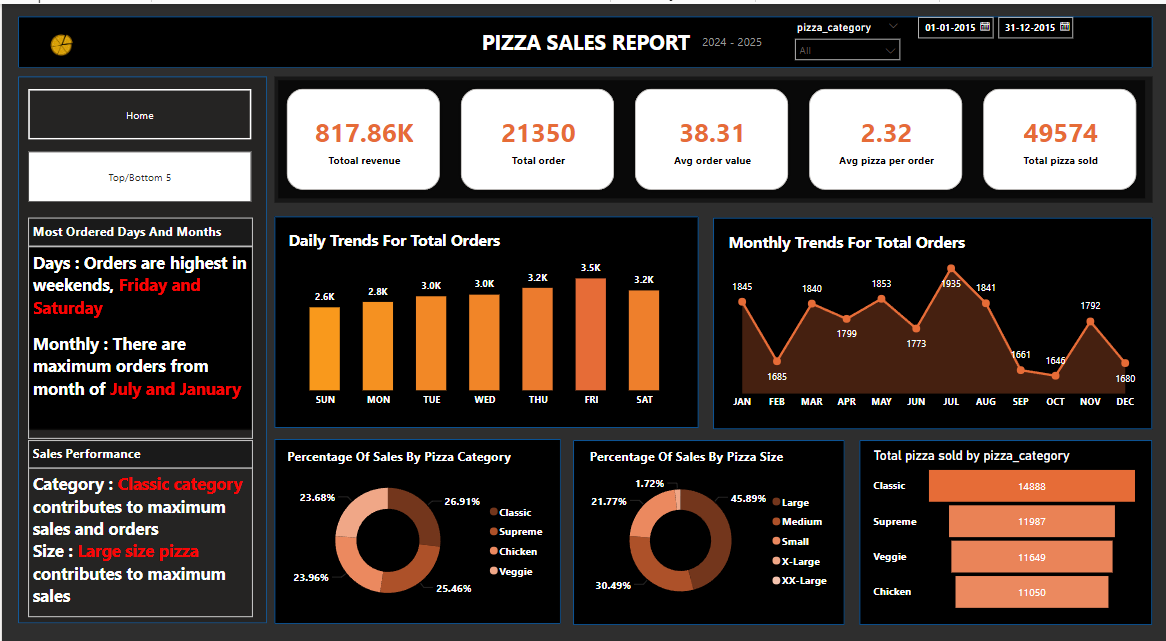

Layout of this report page (visuals, bound fields, positions):
{"tool":"powerbi","page":{"name":"Home","canvas":[1500,820],"ordinal":0},"visuals":[{"type":"cardVisual","fields":{"Data":["pizza_sales.Totoal revenue","pizza_sales.Total order","pizza_sales.Avg order value","pizza_sales.Avg pizza per order","pizza_sales.Total pizza sold"]},"box":[350.4,93.4,1129.4,162.1],"z":0},{"type":"shape","title":"PIZZA SALES","box":[20.6,16.5,1459.2,66],"z":1000},{"type":"textbox","box":[572,25.3,357.3,46.7],"z":2000},{"type":"textbox","box":[895.8,33,97.6,33],"z":3000},{"type":"shape","box":[350.4,273.4,545.5,272.1],"z":4000},{"type":"columnChart","title":"Daily Trends For Total Orders","fields":{"Category":["pizza_sales.order day"],"Y":["pizza_sales.Total order"]},"box":[364.1,289.9,516.6,237.7],"z":5000},{"type":"shape","box":[915.1,274.8,564.7,272.1],"z":6000},{"type":"areaChart","title":"Monthly Trends For Total Orders","fields":{"Category":["pizza_sales.order Month"],"Y":["pizza_sales.Total order"]},"box":[928.8,292.7,538.6,237.7],"z":7000},{"type":"shape","box":[350.4,559.2,368.2,237.7],"z":8000},{"type":"shape","box":[735.1,562,349,237.7],"z":9000},{"type":"shape","box":[1103.3,560.6,376.5,237.7],"z":10000},{"type":"donutChart","title":"Percentage Of Sales By Pizza Category","fields":{"Category":["pizza_sales.pizza_category"],"Y":["pizza_sales.Totoal revenue"]},"box":[361.4,571.6,347.6,217.1],"z":11000},{"type":"donutChart","title":"Percentage Of Sales By Pizza Size","fields":{"Y":["pizza_sales.Totoal revenue"],"Category":["pizza_sales.pizza_size"]},"box":[750.2,571.6,324.3,217.1],"z":12000},{"type":"funnel","fields":{"Category":["pizza_sales.pizza_category"],"Y":["pizza_sales.Total pizza sold"]},"box":[1115.7,571.6,351.7,215.7],"z":13000},{"type":"shape","box":[20.6,93.4,320.1,703.5],"z":14000},{"type":"shape","box":[33,306.4,288.5,240.5],"z":15000},{"type":"textbox","box":[33,274.8,288.5,37.1],"z":16000},{"type":"textbox","box":[33,311.9,288.5,247.3],"z":17000},{"type":"textbox","box":[33,596.3,288.5,192.4],"z":18000},{"type":"textbox","box":[33,560.6,288.5,35.7],"z":19000},{"type":"slicer","fields":{"Values":["pizza_sales.pizza_category"]},"box":[1009.9,16.1,156,59.5],"z":20000},{"type":"slicer","fields":{"Values":["pizza_sales.order_date"]},"box":[1165.8,6.4,223.5,69.1],"z":21000},{"type":"image","box":[20.9,20.9,111,61.1],"z":22000},{"type":"pageNavigator","box":[33.8,109.3,287.8,65.9],"z":23000},{"type":"pageNavigator","box":[33.8,189.8,287.8,65.9],"z":24000}]}

Visuals, with their boxes in screenshot pixels (x1, y1, x2, y2), scaled from the page's 1500x820 canvas onto the 1166x641 screenshot:
cardVisual - pizza_sales.Totoal revenue x pizza_sales.Total order: <bbox>272, 73, 1150, 200</bbox>
"PIZZA SALES" shape: <bbox>16, 13, 1150, 64</bbox>
textbox: <bbox>445, 20, 722, 56</bbox>
textbox: <bbox>696, 26, 772, 52</bbox>
shape: <bbox>272, 214, 696, 426</bbox>
"Daily Trends For Total Orders" columnChart: <bbox>283, 227, 685, 412</bbox>
shape: <bbox>711, 215, 1150, 428</bbox>
"Monthly Trends For Total Orders" areaChart: <bbox>722, 229, 1141, 415</bbox>
shape: <bbox>272, 437, 559, 623</bbox>
shape: <bbox>571, 439, 843, 625</bbox>
shape: <bbox>858, 438, 1150, 624</bbox>
"Percentage Of Sales By Pizza Category" donutChart: <bbox>281, 447, 551, 617</bbox>
"Percentage Of Sales By Pizza Size" donutChart: <bbox>583, 447, 835, 617</bbox>
funnel - pizza_sales.pizza_category x pizza_sales.Total pizza sold: <bbox>867, 447, 1141, 615</bbox>
shape: <bbox>16, 73, 265, 623</bbox>
shape: <bbox>26, 240, 250, 428</bbox>
textbox: <bbox>26, 215, 250, 244</bbox>
textbox: <bbox>26, 244, 250, 437</bbox>
textbox: <bbox>26, 466, 250, 617</bbox>
textbox: <bbox>26, 438, 250, 466</bbox>
slicer - pizza_sales.pizza_category: <bbox>785, 13, 906, 59</bbox>
slicer - pizza_sales.order_date: <bbox>906, 5, 1080, 59</bbox>
image: <bbox>16, 16, 103, 64</bbox>
pageNavigator: <bbox>26, 85, 250, 137</bbox>
pageNavigator: <bbox>26, 148, 250, 200</bbox>
